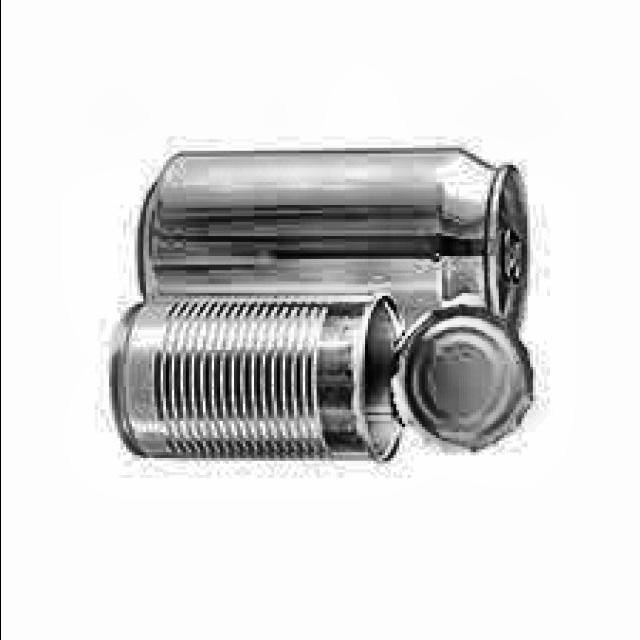litter: (128, 146, 534, 346), (100, 291, 541, 464)
